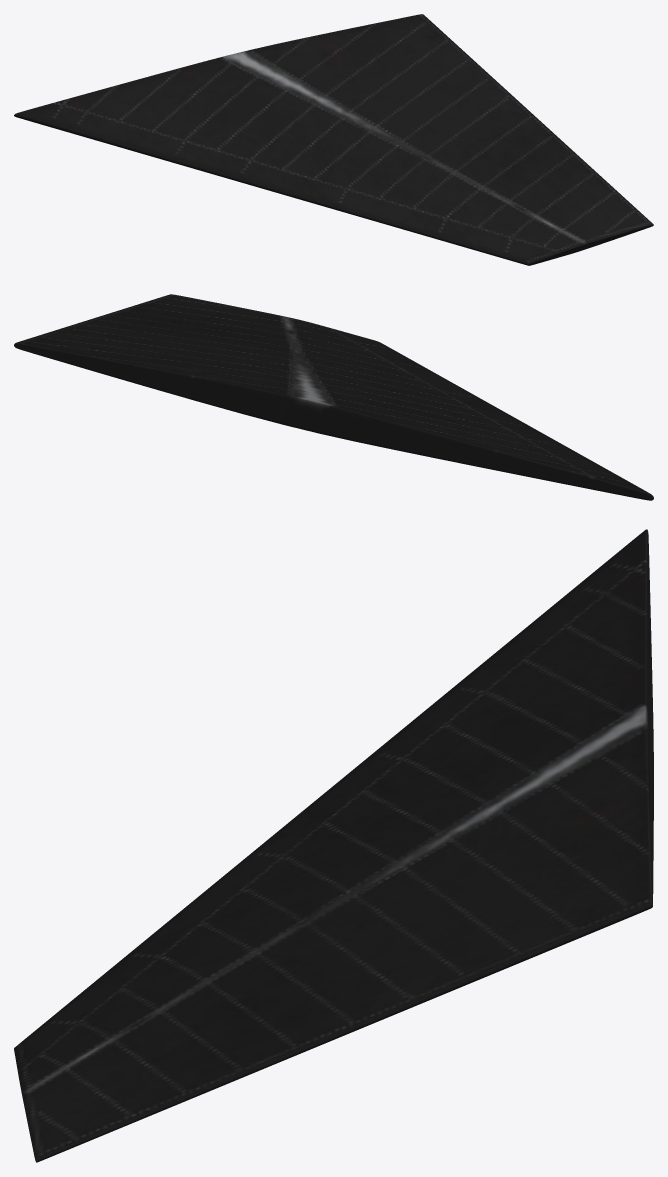
File: x15_elevon_left.glb
The picture shows the model from 3 angles, top to bottom: view 1: azimuth 30°, elevation 25°; view 2: azimuth 150°, elevation 25°; view 3: azimuth 270°, elevation 25°; orthographic projection. The views are drawn at different scales.
Visible parts, largest first — view 1: elevon_left_export; view 2: elevon_left_export; view 3: elevon_left_export.
Part boxes in pixels (x1=…): elevon_left_export: x1=14, y1=14, x2=653, y2=265; elevon_left_export: x1=14, y1=294, x2=653, y2=500; elevon_left_export: x1=14, y1=529, x2=653, y2=1162.
Size of the model in its own units: 3.02 by 0.7253 by 1.88.
1 material, 1 textured.
